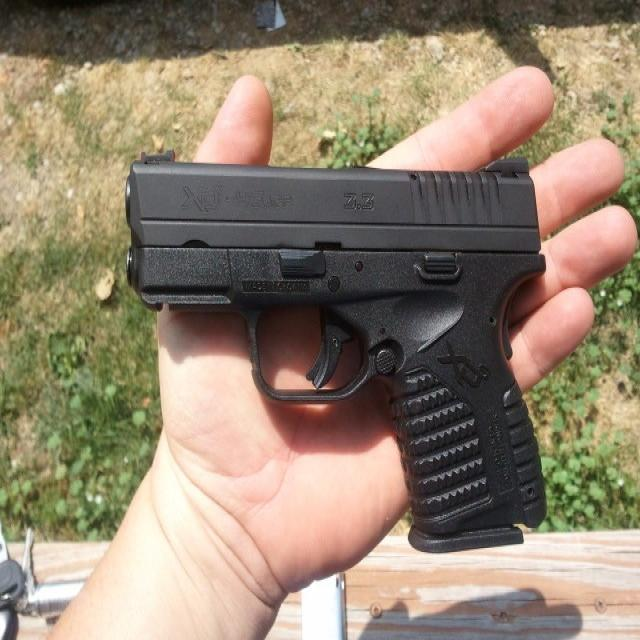HandGun: (125, 160, 548, 555)
